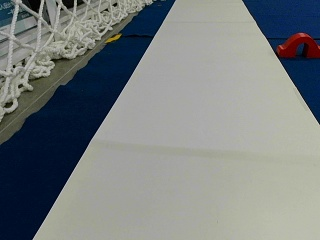bridge: (278, 33, 319, 56)
